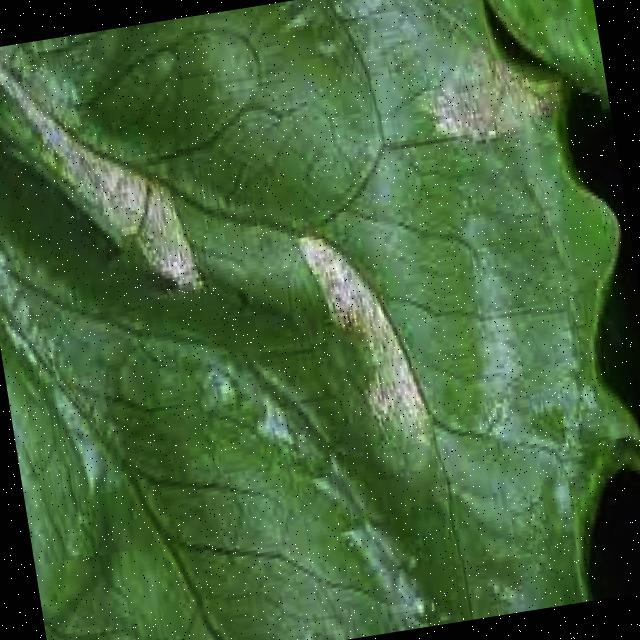Powdery_mildew_on_lettuce: (0, 0, 565, 603)
